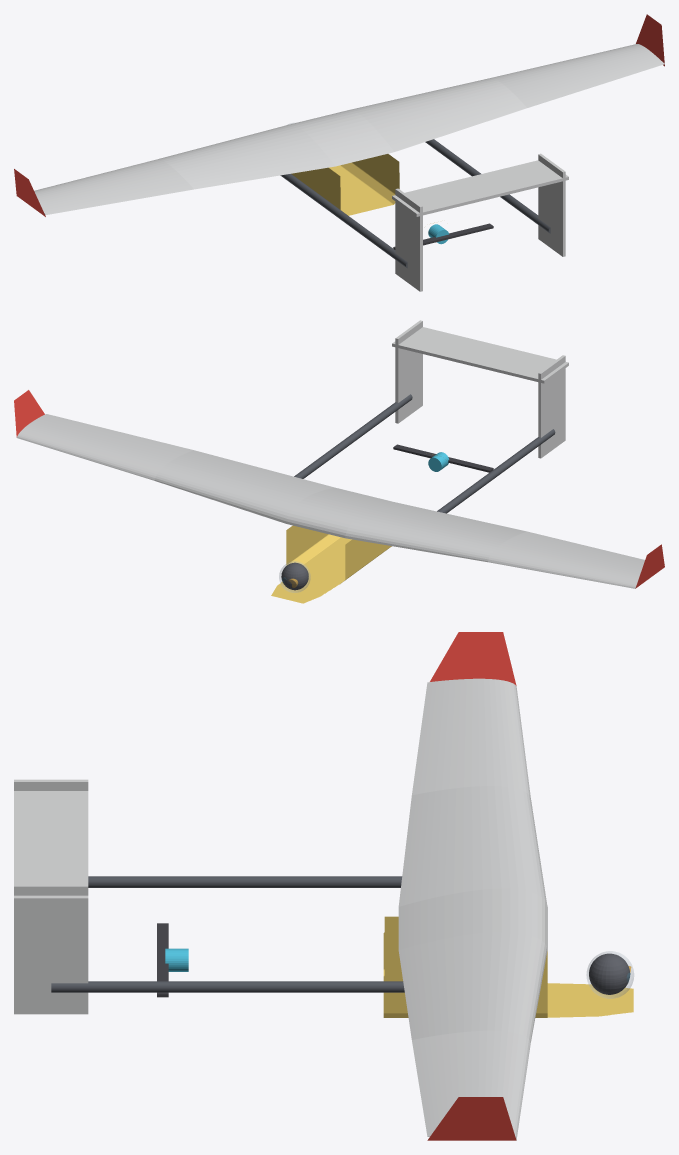
File: Garuda_Vedang_ReEngineered_AllWeather.glb
The picture shows the model from 3 angles, top to bottom: view 1: azimuth 30°, elevation 25°; view 2: azimuth 150°, elevation 25°; view 3: azimuth 270°, elevation 25°; orthographic projection. The views are drawn at different scales.
Visible parts, largest first — view 1: RL_AllWeather_Continuous_Wing, PicoGK_Fuselage_Gyroid_Airframe, Horizontal_Stabilizer_Elevator, Vertical_Fin_Left, Vertical_Fin_Right, Carbon_Boom_Left, Carbon_Boom_Right, Aero_Winglet_Right, Aero_Winglet_Left, Propeller_8x6_Carbon_Pusher; view 2: RL_AllWeather_Continuous_Wing, PicoGK_Fuselage_Gyroid_Airframe, Horizontal_Stabilizer_Elevator, Vertical_Fin_Left, Vertical_Fin_Right, Carbon_Boom_Right, Carbon_Boom_Left, Sapphire_Protective_Optical_Dome, Aero_Winglet_Right, EO_IR_Gimbal_Turret, Aero_Winglet_Left, Propeller_8x6_Carbon_Pusher; view 3: RL_AllWeather_Continuous_Wing, Vertical_Fin_Right, Horizontal_Stabilizer_Elevator, PicoGK_Fuselage_Gyroid_Airframe, Carbon_Boom_Right, Carbon_Boom_Left, Aero_Winglet_Left, Aero_Winglet_Right, Sapphire_Protective_Optical_Dome, EO_IR_Gimbal_Turret, Vertical_Fin_Left, Propeller_8x6_Carbon_Pusher.
Part boxes in pixels (x1,y1,x2,y2): RL_AllWeather_Continuous_Wing: (34,44,664,214); PicoGK_Fuselage_Gyroid_Airframe: (291,154,434,223); Horizontal_Stabilizer_Elevator: (392,160,568,216); Vertical_Fin_Left: (395,188,422,291); Vertical_Fin_Right: (538,153,565,256); Carbon_Boom_Left: (280,174,407,268); Carbon_Boom_Right: (425,139,550,233); Aero_Winglet_Right: (636,14,664,66); Aero_Winglet_Left: (14,169,45,216); Propeller_8x6_Carbon_Pusher: (393,223,493,249); RL_AllWeather_Continuous_Wing: (17,414,644,588); PicoGK_Fuselage_Gyroid_Airframe: (271,454,437,603); Horizontal_Stabilizer_Elevator: (392,327,568,383); Vertical_Fin_Left: (538,355,565,458); Vertical_Fin_Right: (395,320,422,423); Carbon_Boom_Right: (294,394,412,478); Carbon_Boom_Left: (437,429,555,513); Sapphire_Protective_Optical_Dome: (279,561,310,592); Aero_Winglet_Right: (14,390,44,437); EO_IR_Gimbal_Turret: (281,562,308,590); Aero_Winglet_Left: (635,544,664,588); Propeller_8x6_Carbon_Pusher: (393,444,493,472); RL_AllWeather_Continuous_Wing: (398,678,547,1140); Vertical_Fin_Right: (14,884,88,1014); Horizontal_Stabilizer_Elevator: (14,791,88,902); PicoGK_Fuselage_Gyroid_Airframe: (383,916,633,1017); Carbon_Boom_Right: (51,981,404,992); Carbon_Boom_Left: (88,876,402,887); Aero_Winglet_Left: (430,632,516,685); Aero_Winglet_Right: (427,1097,516,1140); Sapphire_Protective_Optical_Dome: (586,951,633,998); EO_IR_Gimbal_Turret: (589,953,629,994); Vertical_Fin_Left: (14,779,88,790); Propeller_8x6_Carbon_Pusher: (157,923,168,997).
Size of the model in its own units: 1.33 by 0.223 by 0.787.
